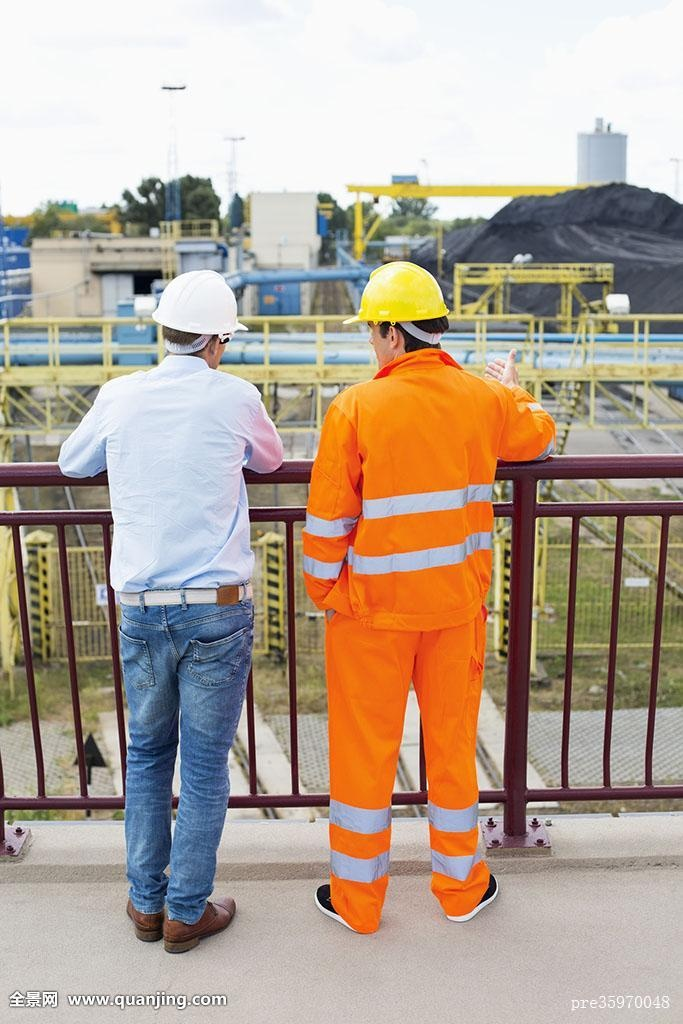white: (153, 270, 244, 371)
yellow: (347, 260, 450, 372)
